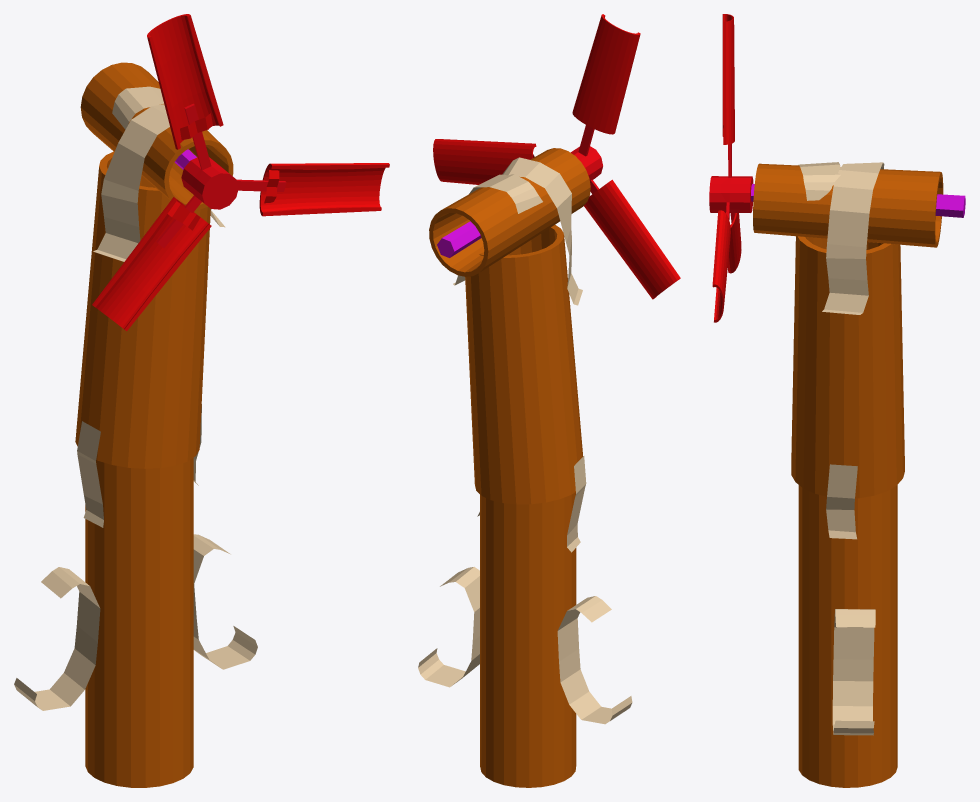
The model's file is SM_Moulin.fbx.
3 renders of one model, left to right at view 1: azimuth 30°, elevation 25°; view 2: azimuth 150°, elevation 25°; view 3: azimuth 270°, elevation 25°, orthographic. The views are drawn at different scales.
Parts seen in each view (by area): view 1: SM_Moulin; view 2: SM_Moulin; view 3: SM_Moulin.
Boxes of the visible parts, x1=… form: SM_Moulin: x1=14, y1=14, x2=389, y2=787; SM_Moulin: x1=418, y1=14, x2=680, y2=787; SM_Moulin: x1=709, y1=14, x2=965, y2=787.
Size of the model in its own units: 270 by 721 by 227.
